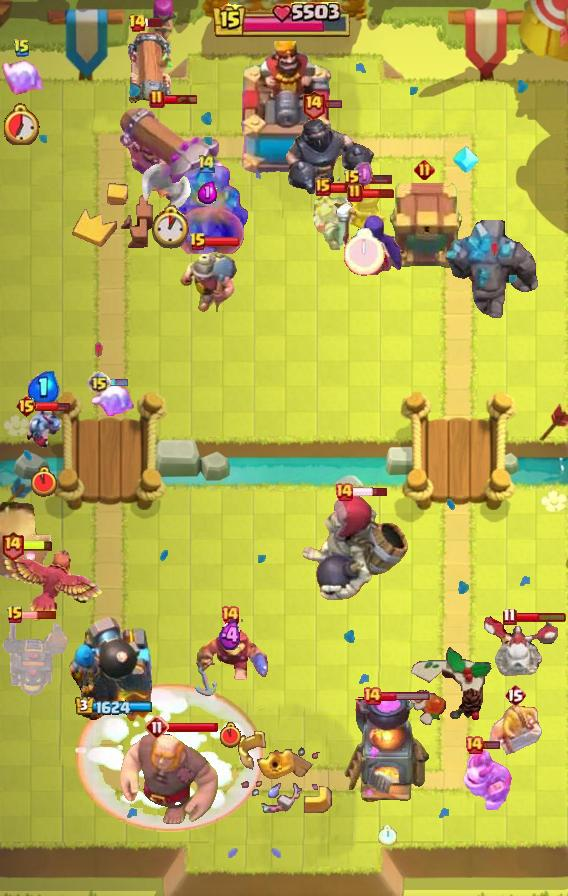archer-evolution: (0, 616, 74, 698)
axe: (329, 198, 405, 278)
balloon: (117, 730, 223, 828)
bandit: (178, 247, 238, 317)
battle-healer: (128, 27, 174, 109)
bomb: (385, 182, 463, 270)
cannoneer-tower: (443, 220, 541, 322), (162, 164, 252, 254)
clock: (213, 2, 355, 40)
electro-giant: (299, 494, 413, 602)
electro-spirit: (28, 371, 60, 405), (218, 619, 243, 652), (353, 160, 375, 187), (198, 181, 217, 204)
elixir: (343, 228, 384, 276), (150, 205, 192, 249), (4, 103, 40, 145), (31, 466, 57, 497), (220, 722, 241, 748), (379, 826, 398, 847)
elixir-golem-small: (461, 750, 515, 810)
emote: (513, 611, 566, 623), (167, 721, 219, 733), (381, 691, 432, 702), (35, 399, 71, 413), (18, 539, 54, 553), (329, 181, 367, 194), (351, 486, 388, 498), (163, 93, 199, 105), (205, 236, 241, 248), (359, 173, 393, 185), (361, 189, 395, 200), (23, 610, 58, 620), (144, 17, 164, 28), (109, 378, 129, 388), (324, 99, 343, 109), (482, 740, 501, 750)
fireball: (191, 626, 269, 700)
furnace: (116, 103, 226, 205)
goblin-giant: (490, 703, 543, 755)
golden-knight: (0, 546, 106, 624)
hunter: (343, 695, 431, 805)
king-tower: (228, 41, 340, 181)
mini-pekka: (482, 615, 560, 677)
mirror: (0, 57, 46, 99), (89, 384, 139, 422)
mortar-evolution: (311, 192, 353, 250)
pad_2: (451, 145, 481, 175)
phoenix-big: (75, 683, 265, 833)
princess: (339, 177, 389, 235)
royal-delivery: (24, 405, 64, 449)
royal-giant: (141, 164, 195, 224)
royal-guardian: (285, 104, 377, 194)
selected: (75, 696, 153, 716)
text: (302, 88, 327, 119), (0, 531, 24, 561), (87, 371, 111, 395), (145, 715, 169, 739), (15, 394, 38, 418), (504, 683, 526, 707), (414, 159, 435, 181), (197, 154, 217, 175), (334, 482, 354, 502), (220, 605, 240, 625), (362, 686, 382, 706), (464, 735, 484, 755), (129, 13, 148, 33), (13, 38, 31, 58), (343, 169, 361, 189), (189, 232, 207, 252), (6, 605, 24, 625), (149, 89, 165, 109), (347, 183, 363, 203), (315, 178, 331, 196), (502, 607, 517, 625)
tower-bar: (64, 615, 164, 731)
x-bow: (0, 499, 66, 581)
